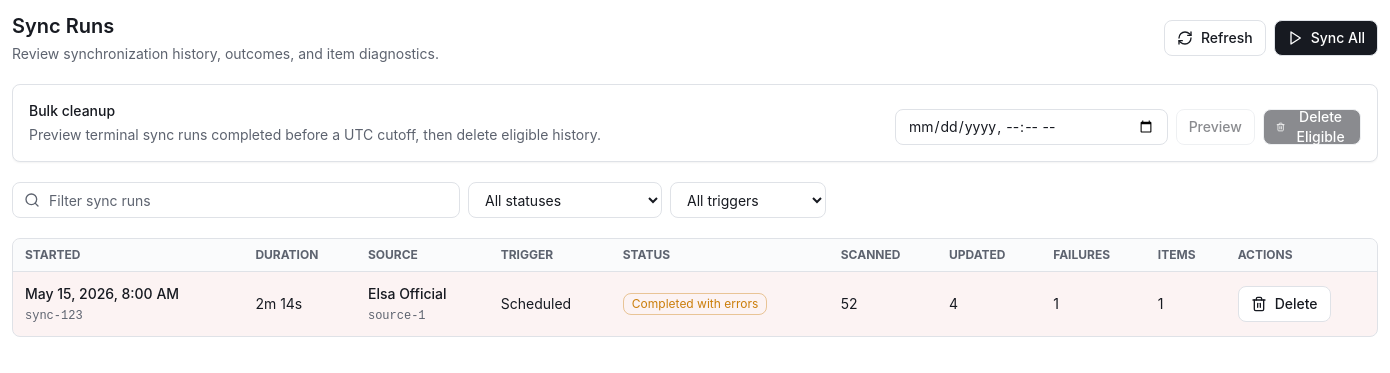
Scenario: SyncRunsPage › filters populated sync run rows by status
Select "Running" in the dropdown named "Filter by status" at [565, 200], box x1=468 y1=182 x2=662 y2=218
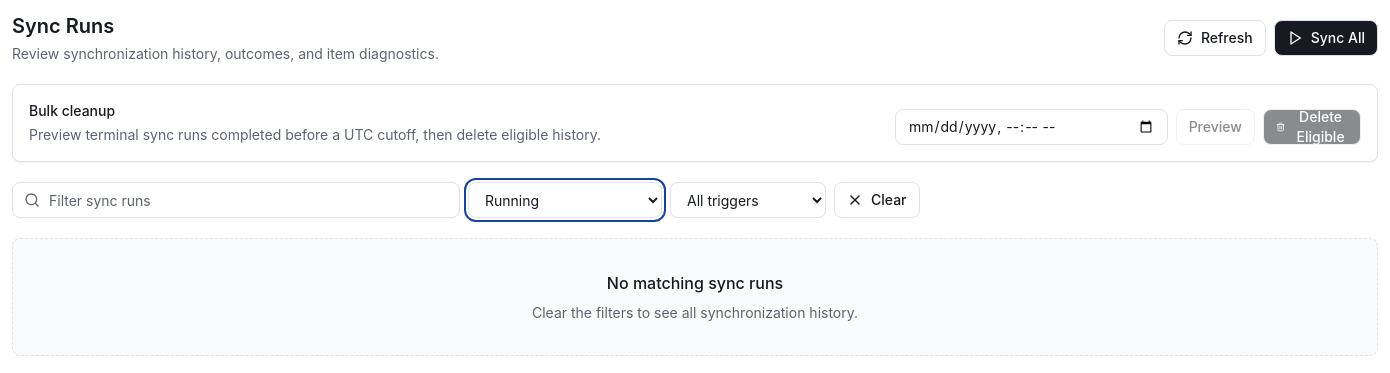
Expected: the heading "No matching sync runs" is shown, x1=607 y1=273 x2=783 y2=293
